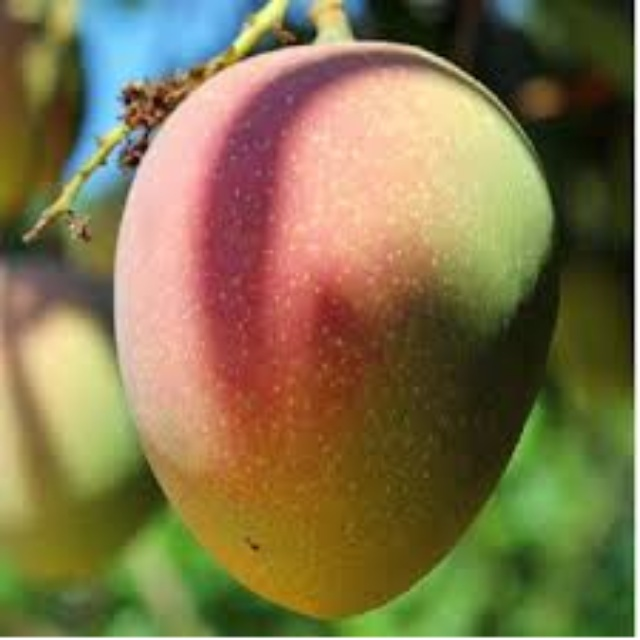thanh_long: (105, 22, 560, 622)
